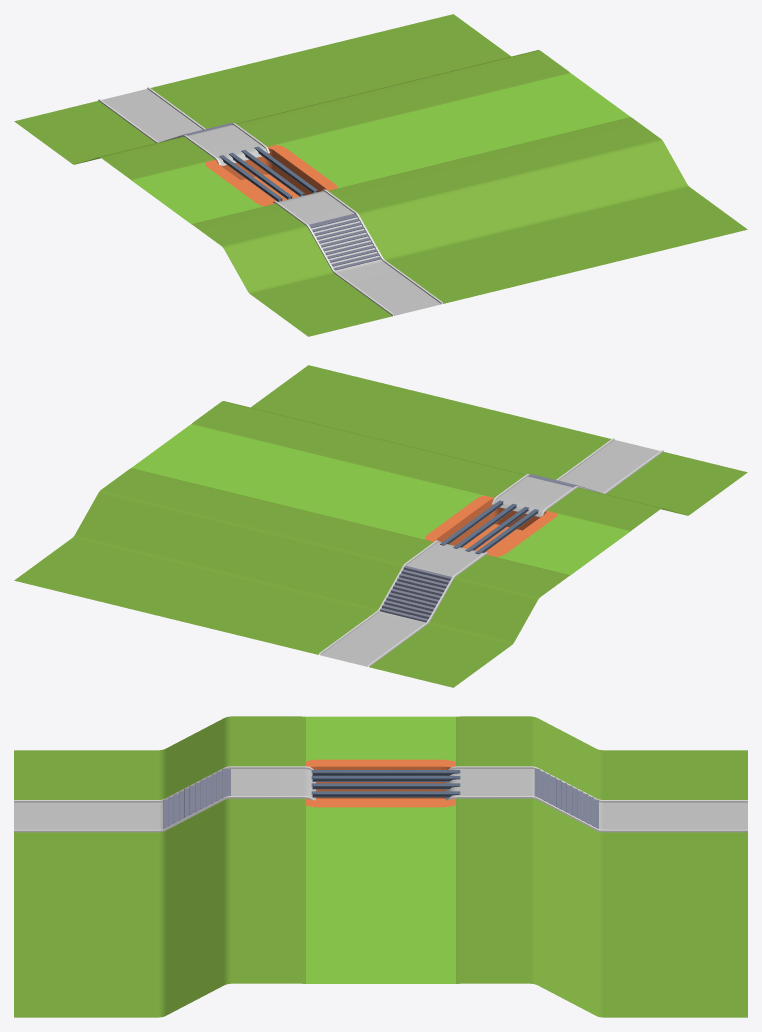
3 renders of one model, top to bottom at view 1: azimuth 30°, elevation 25°; view 2: azimuth 150°, elevation 25°; view 3: azimuth 270°, elevation 25°, orthographic. The views are drawn at different scales.
Visible parts, largest first — view 1: Patch_05; view 2: Patch_05; view 3: Patch_05, patches_09:Iron_Bar_04, patches_09:Iron_Bar_03, patches_09:Iron_Bar_01, patches_09:Iron_Bar_02.
Boxes of the visible parts, bbox=[...] form: Patch_05: bbox=[14, 14, 747, 336]; Patch_05: bbox=[14, 365, 747, 687]; Patch_05: bbox=[14, 716, 747, 1017]; patches_09:Iron_Bar_04: bbox=[311, 791, 460, 797]; patches_09:Iron_Bar_03: bbox=[311, 783, 460, 789]; patches_09:Iron_Bar_01: bbox=[311, 770, 460, 775]; patches_09:Iron_Bar_02: bbox=[311, 776, 460, 781].
Bounding box in the file's own units: 404 × 24.92 × 469.
